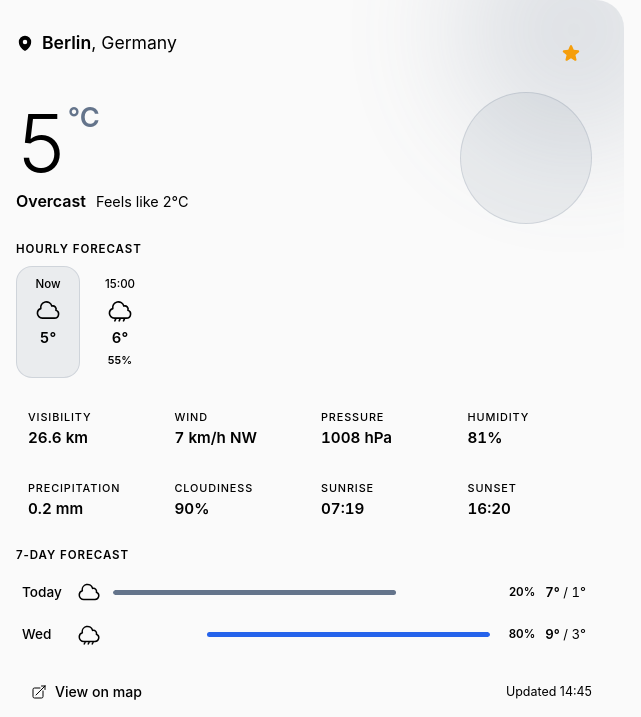
Scenario: SearchResults › removes an existing favorite
Click the button named "Remove from favorites".
click(571, 53)  # box [550,32,592,74]
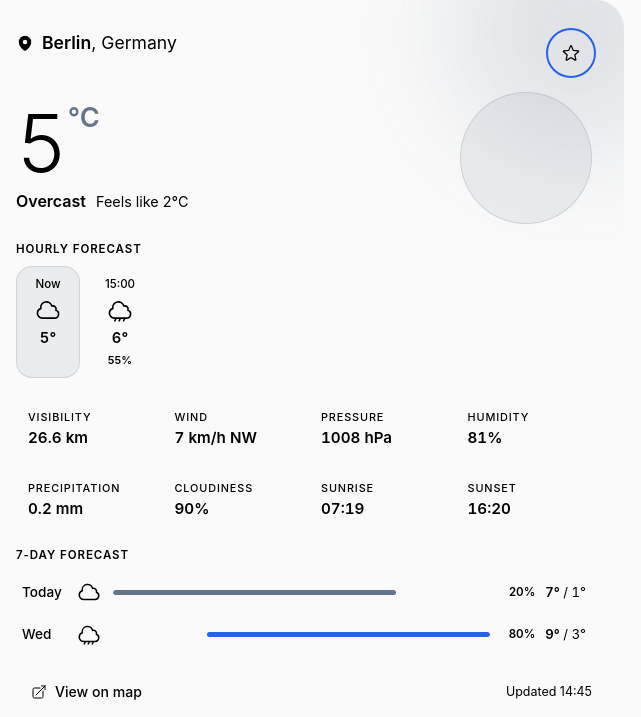
expect the button named "Add to favorites" is not pressed: met, box [550,32,592,74]
